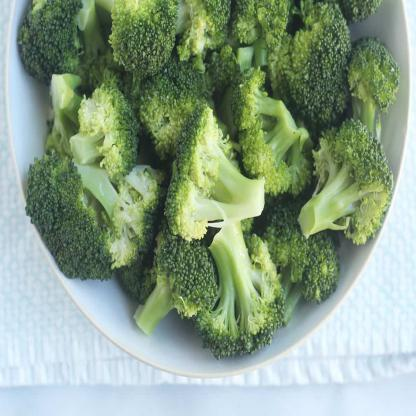broccoli: (14, 0, 400, 358)
